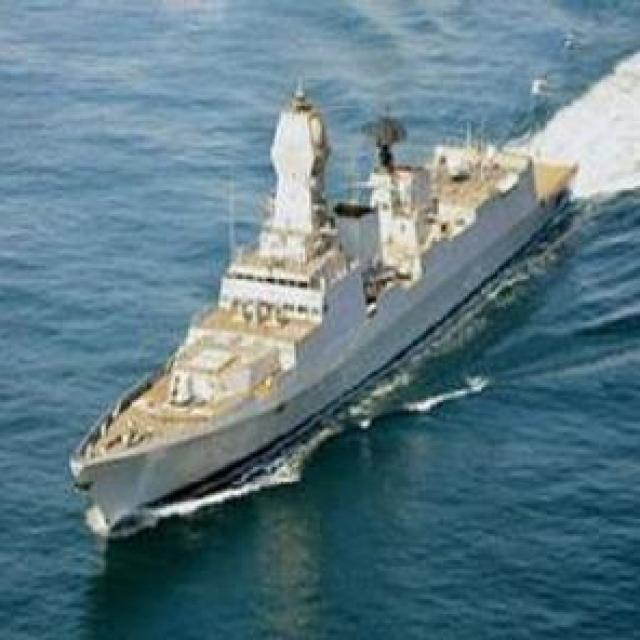navalvessels: (51, 70, 602, 550)
